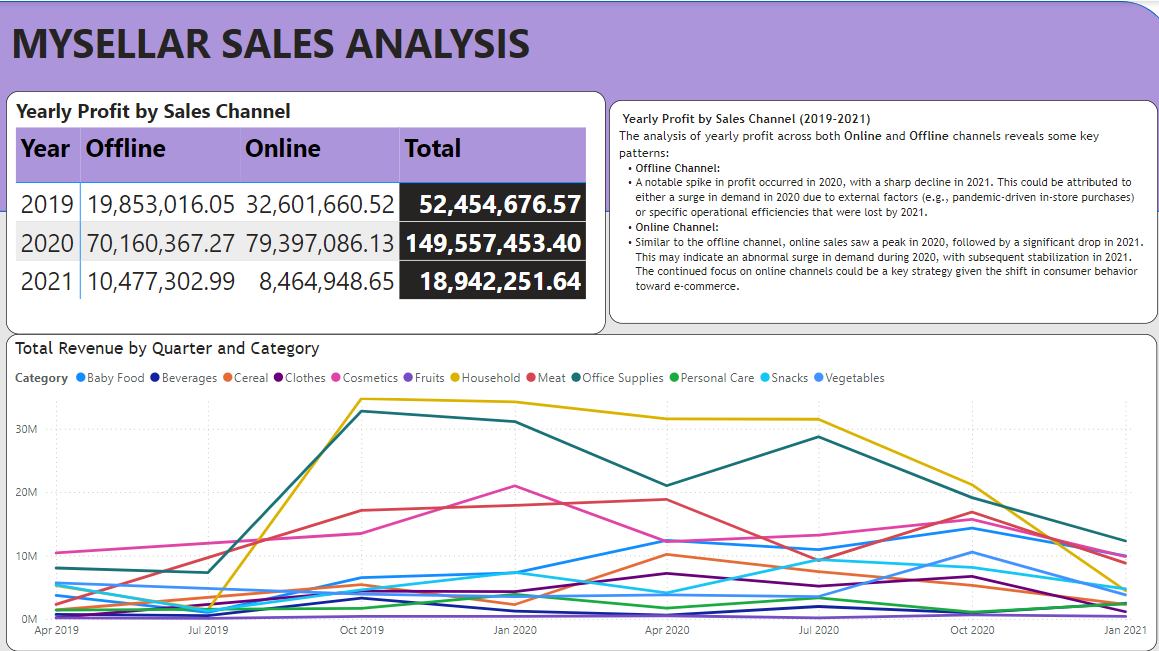

What the dashboard file says about the page in this screenshot:
{"tool":"powerbi","page":{"name":"Mysellar Sales Analysis","canvas":[1280,720],"ordinal":0},"visuals":[{"type":"shape","box":[10,0,1270,227.5],"z":0},{"type":"shape","box":[10,227.5,1270,492.5],"z":1000},{"type":"textbox","box":[20,10,1195,87.5],"z":2000},{"type":"pivotTable","title":"Yearly Profit by Sales Channel","fields":{"Rows":["Date Table.Date.Variation.Date Hierarchy.Year"],"Columns":["Mysellar Sales.Sales Channel"],"Values":["Mysellar Sales.Total Profit"]},"box":[20,97.5,647.5,262.5],"z":3000},{"type":"lineChart","title":"Total Revenue by Quarter and Category","fields":{"Y":["Sum(Mysellar Sales.Total Revenue)"],"Series":["Mysellar Sales.Category"],"Category":["Date Table.Date.Variation.Date Hierarchy.Year","Date Table.Date.Variation.Date Hierarchy.Quarter"]},"box":[20,360,1242.5,342.5],"z":4000},{"type":"textbox","title":"Narration Text Box","box":[670,107.5,592.5,241.2],"z":5000}]}

Visuals, with their boxes in screenshot pixels (x1, y1, x2, y2), scaled from the page's 1280x720 canvas onto the 1159x651 screenshot:
shape: {"left": 9, "top": 0, "right": 1158, "bottom": 206}
shape: {"left": 9, "top": 206, "right": 1158, "bottom": 650}
textbox: {"left": 18, "top": 9, "right": 1100, "bottom": 88}
"Yearly Profit by Sales Channel" pivotTable: {"left": 18, "top": 88, "right": 604, "bottom": 326}
"Total Revenue by Quarter and Category" lineChart: {"left": 18, "top": 326, "right": 1143, "bottom": 635}
"Narration Text Box" textbox: {"left": 607, "top": 97, "right": 1143, "bottom": 315}
